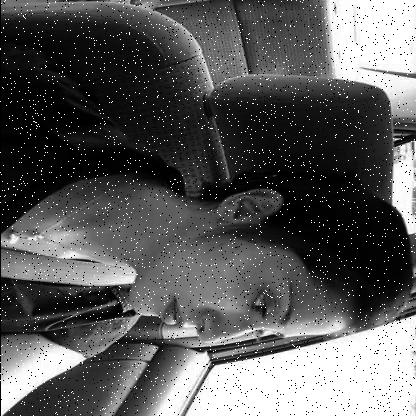seatbelt: (0, 160, 416, 364)
